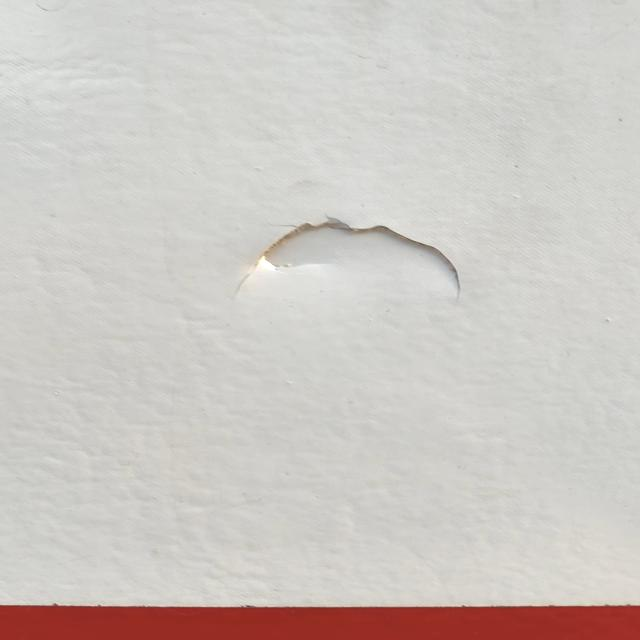Scratches: (223, 204, 468, 310)
